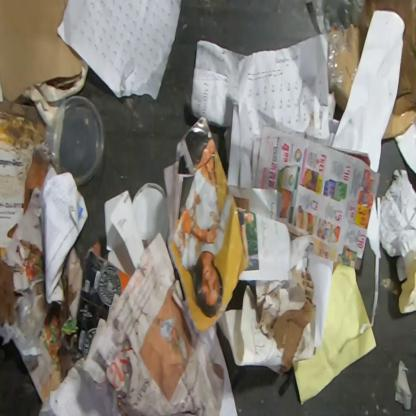cardboard: (334, 0, 415, 140), (0, 0, 83, 103), (0, 101, 47, 261), (255, 257, 316, 377), (76, 238, 132, 358)
rigid_plastic: (47, 95, 106, 186)
soft_plastic: (311, 0, 365, 92)
